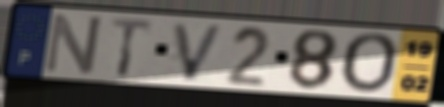2: (222, 24, 274, 89)
8: (285, 27, 341, 92)
N: (41, 11, 106, 76)
O: (339, 30, 403, 96)
T: (108, 16, 155, 79)
V: (170, 20, 228, 83)
